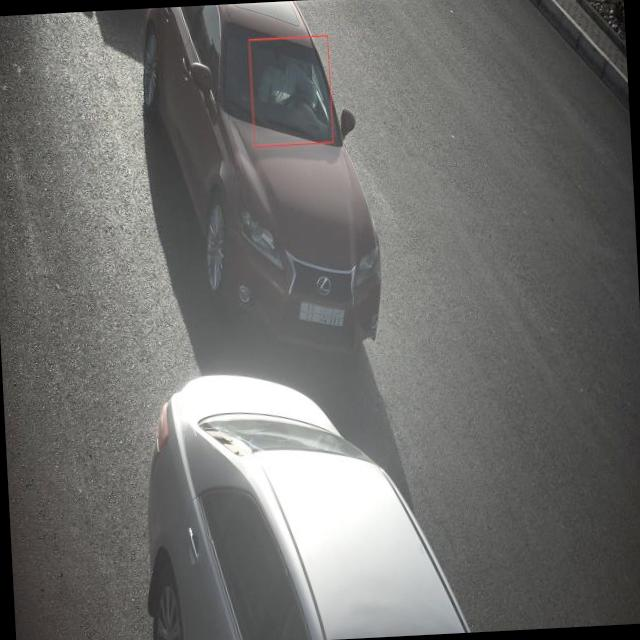person_without_seatbelt: (256, 38, 329, 126)
